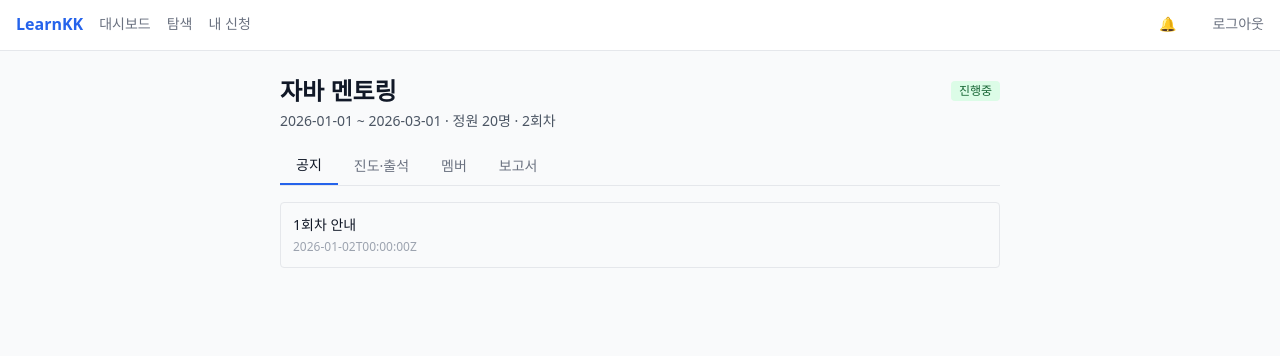
Test: CohortDetailPage › 진도·출석 탭에서 회차 목록과 상태 배지를 렌더한다
Expected: the heading "자바 멘토링" is shown, [280,75,397,107]
Click the tab with test id "tab-progress" at {"x": 381, "y": 166}, box [338,147,425,185]
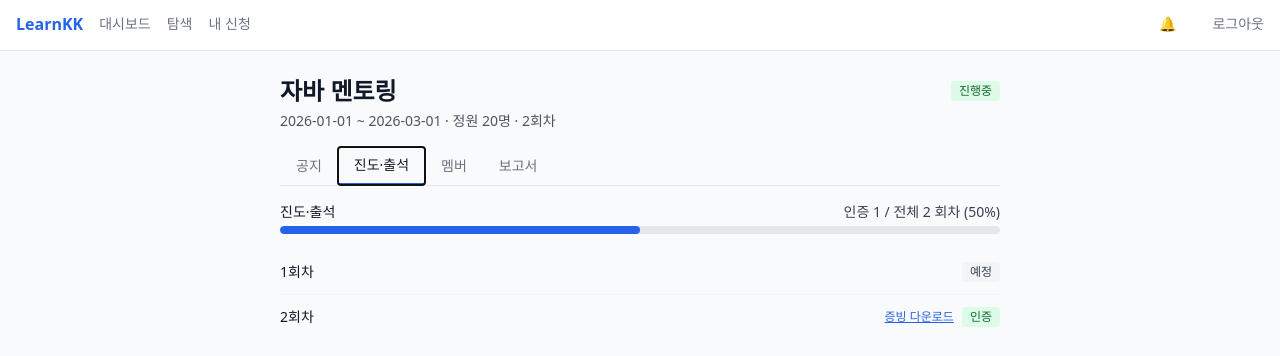
Expected: the list item with test id "session-item-1" is shown, [280,262,1000,282]
Expected: the list item with test id "session-item-2" is shown, [280,294,1000,339]
Expected: the text with test id "session-status-VERIFIED" reads "인증", [970,308,992,325]
